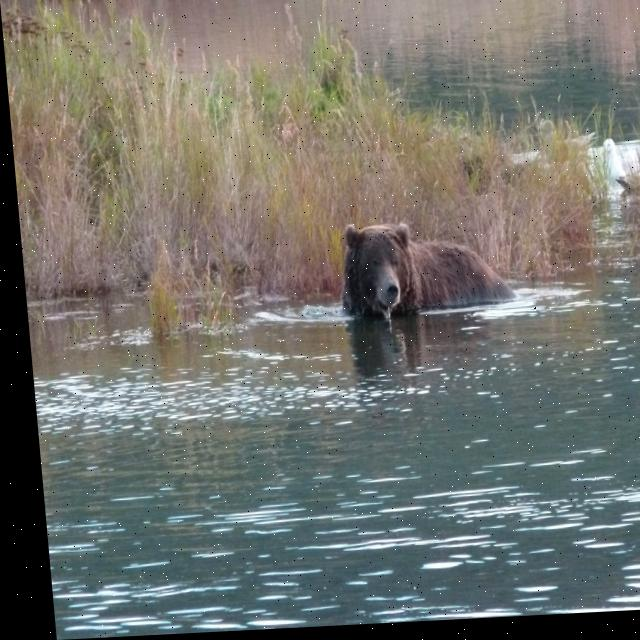bear face: (332, 222, 506, 323)
